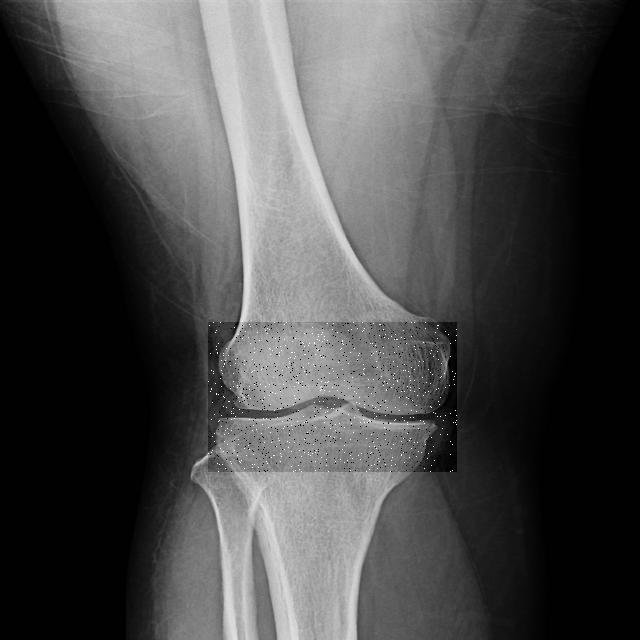normal: (208, 322, 457, 472)
